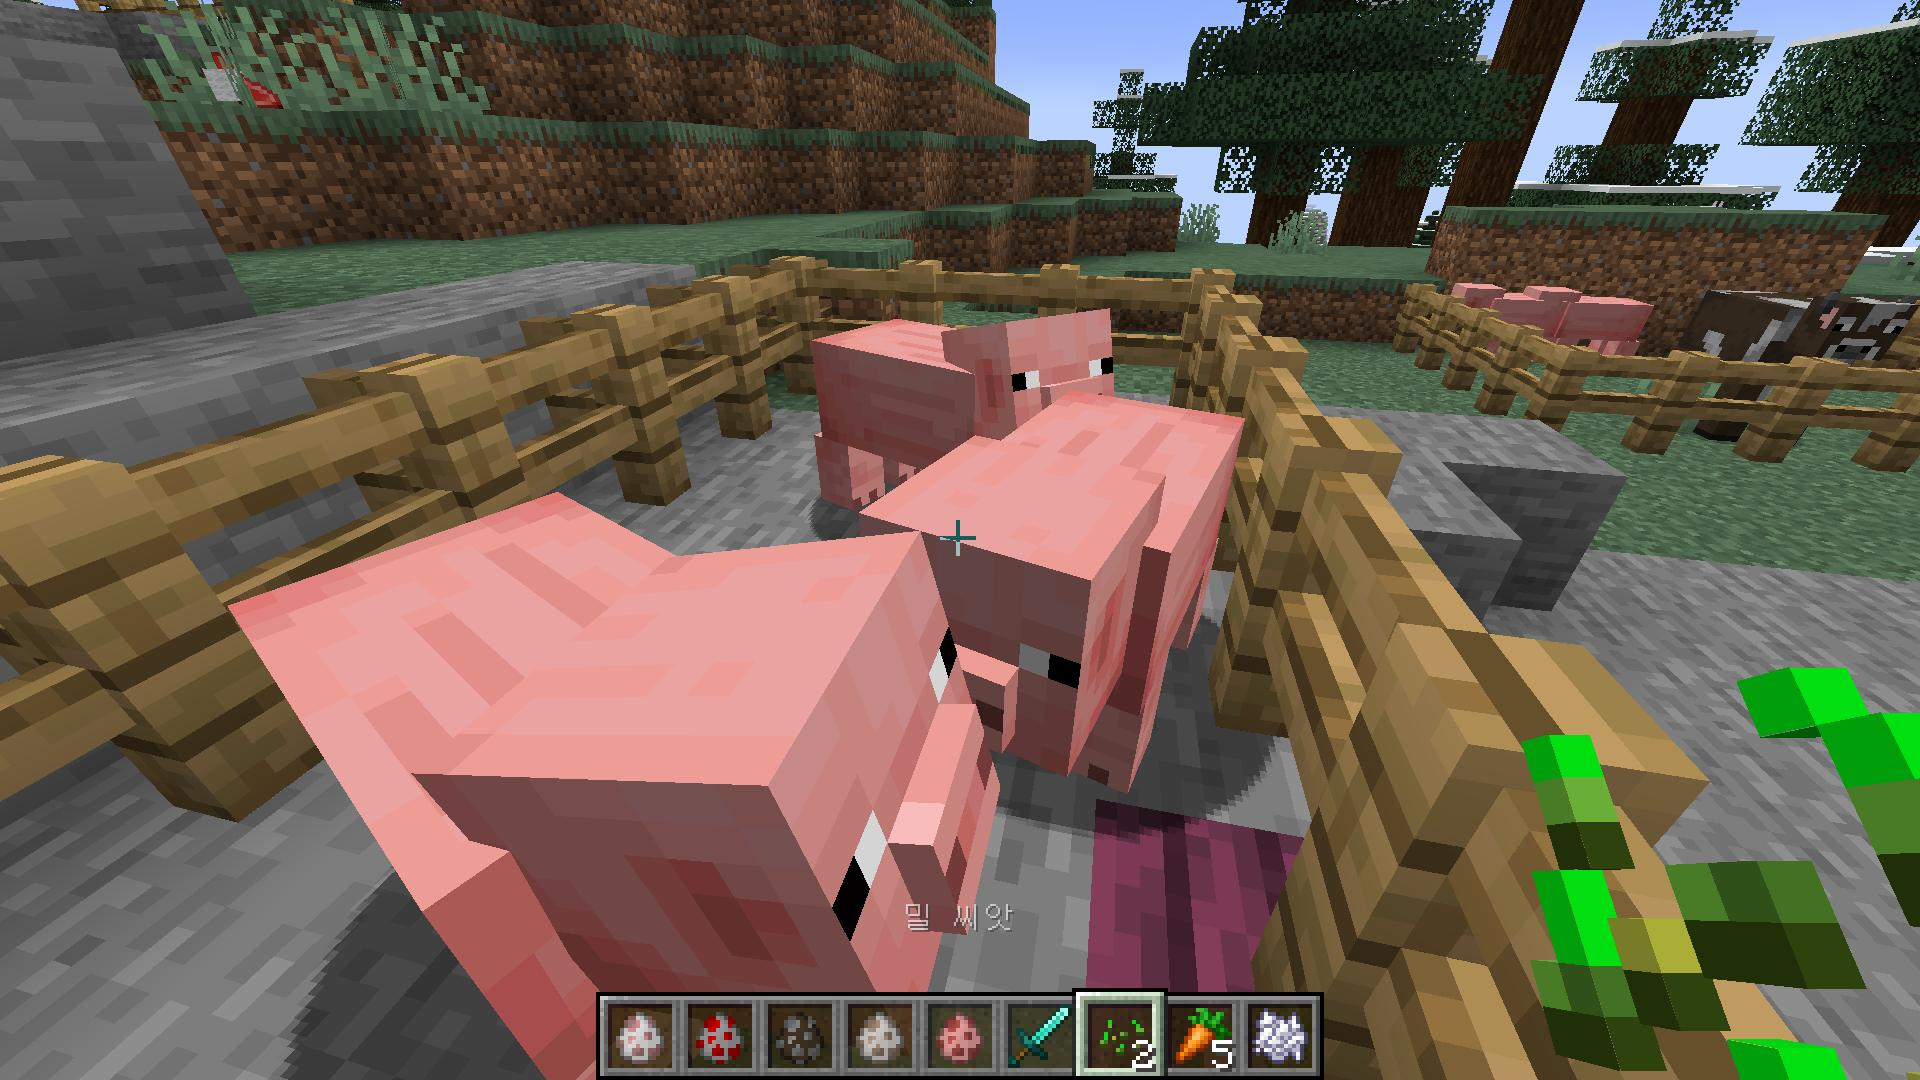pig: (206, 488, 1018, 990), (858, 384, 1250, 789), (807, 293, 1125, 517)
